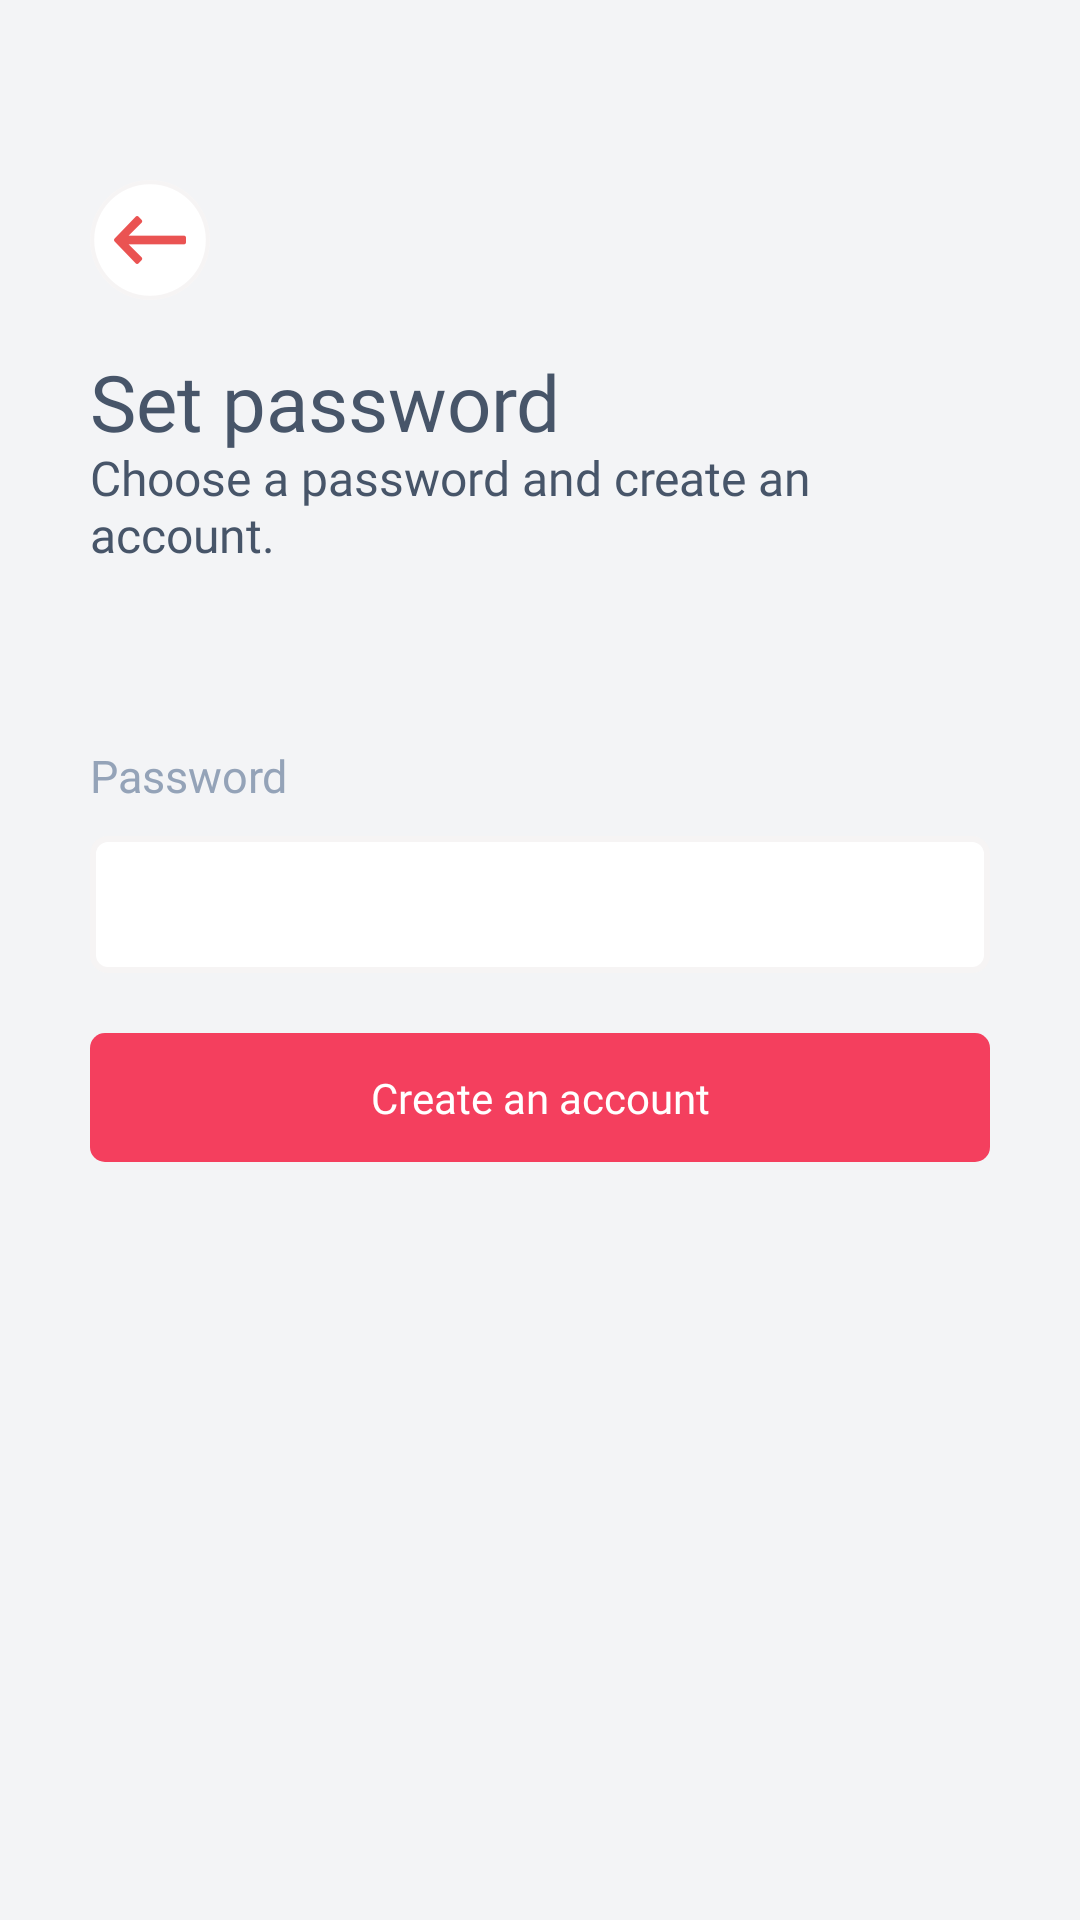

Icon bounding boxes for this 1080w x 1920h phone screenshot, format box=[x1, y1, x2, y2]:
back: box=[94, 184, 206, 296]
